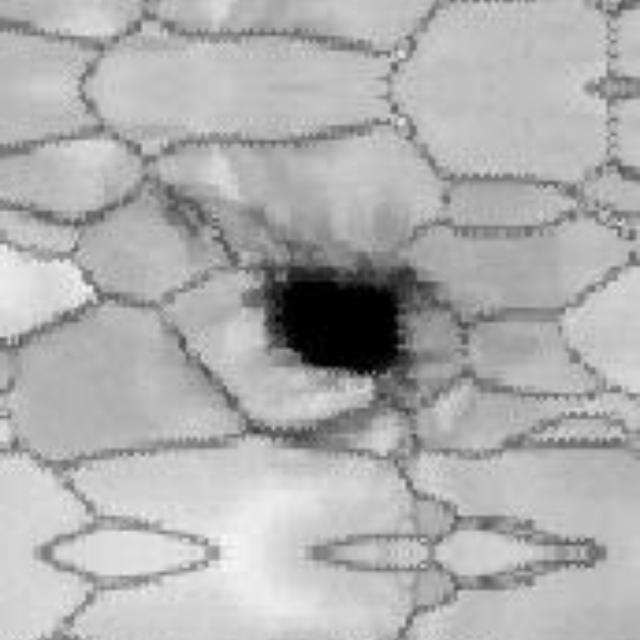good_void: (240, 234, 421, 392)
